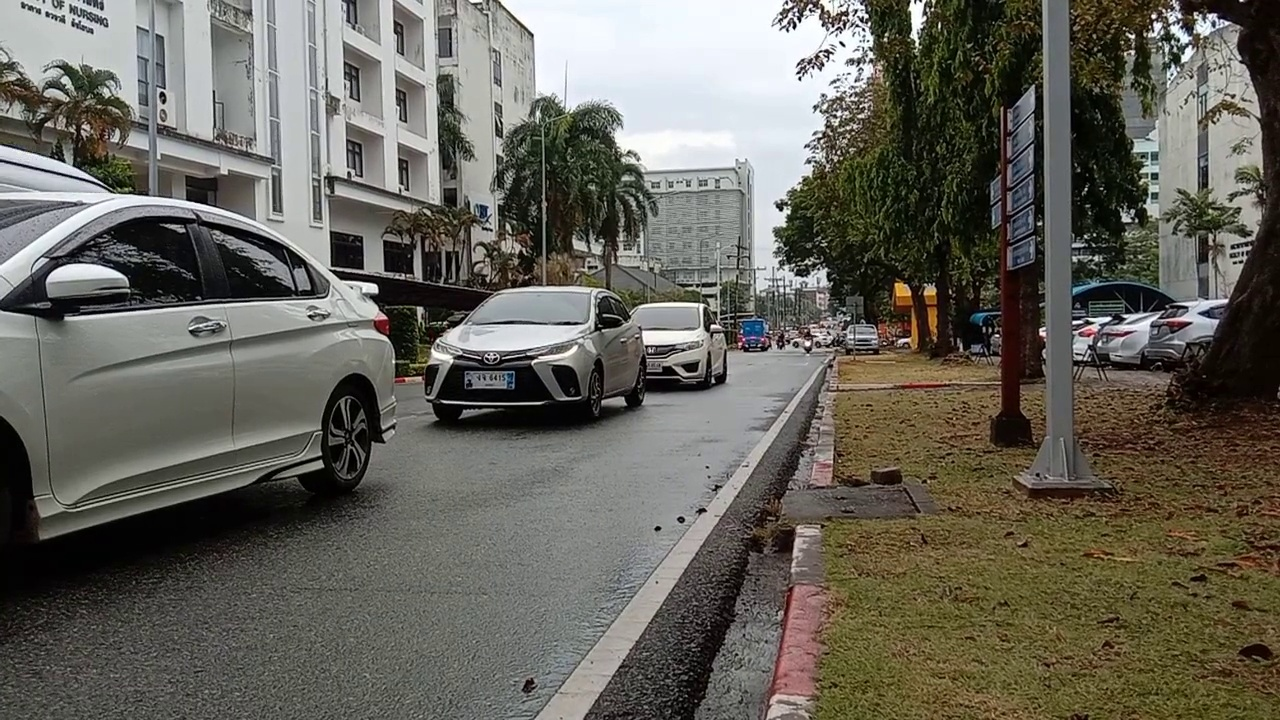License Plate: (463, 369, 517, 392)
